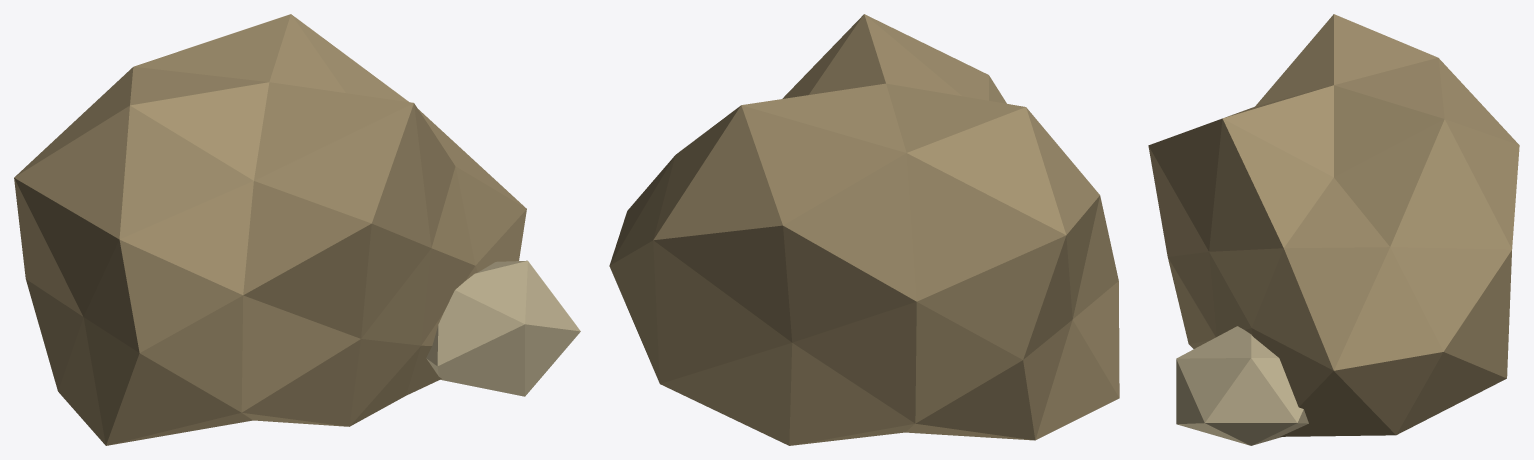
Rendered from rock.glb.
3 views of the same model, side by side, from view 1: azimuth 30°, elevation 25°; view 2: azimuth 150°, elevation 25°; view 3: azimuth 270°, elevation 25° (orthographic). The views are drawn at different scales.
Visible parts, largest first — view 1: Stone; view 2: Stone; view 3: Stone.
Boxes of the visible parts, <box> form: Stone: <box>14,14,580,445</box>; Stone: <box>609,14,1119,445</box>; Stone: <box>1148,14,1519,445</box>.
Bounding box in the file's own units: 1.8 × 1.11 × 1.35.
